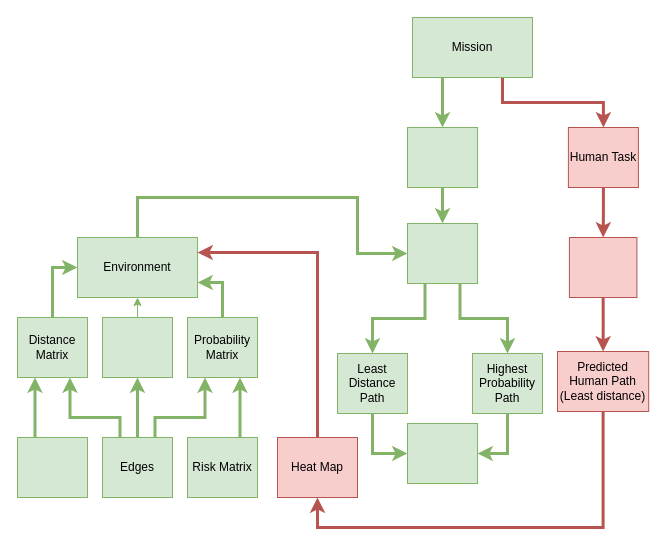
Image size: 667x554. Some labels were removed from this diagram. The shapes that lost their labels are listed below. From the top down, each one's centre as x and y in pixels, then its label:
At [442,157]: "Agent Task".
At [442,253]: "Path Finding".
At [602,267]: "Human Predictive Modelling".
At [137,347]: "Map".
At [52,467]: "Distances".
At [442,453]: "PRISM Path Validation".
